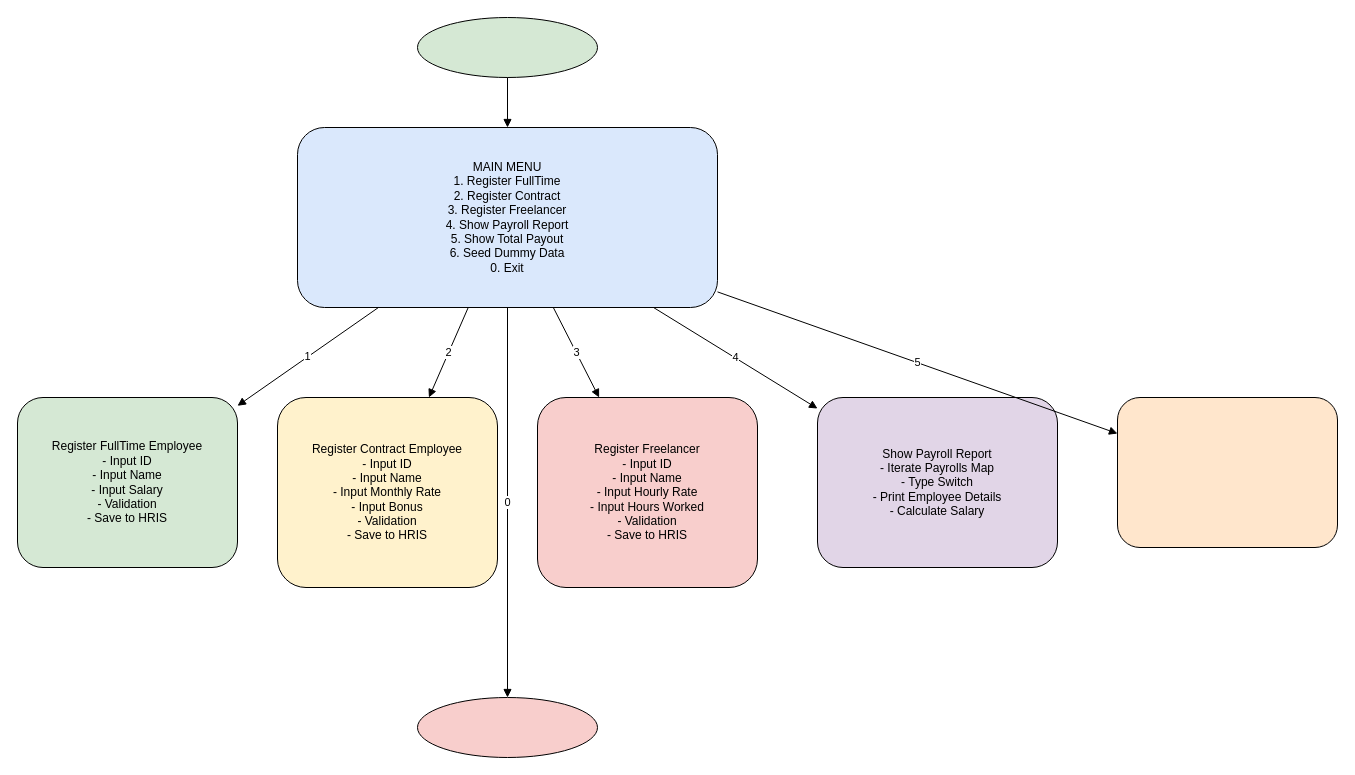
Image size: 1355x775. Some labels were removed from this diagram. The shapes that lost their labels are listed below. From the top down, each one's centre as x and y in pixels, then its label:
At (507,47): "START APPLICATION".
At (1227,472): "Calculate Total Payout - Iterate Payrolls - Sum Salary - Print Total Budget".
At (507,727): "EXIT APPLICATION".
